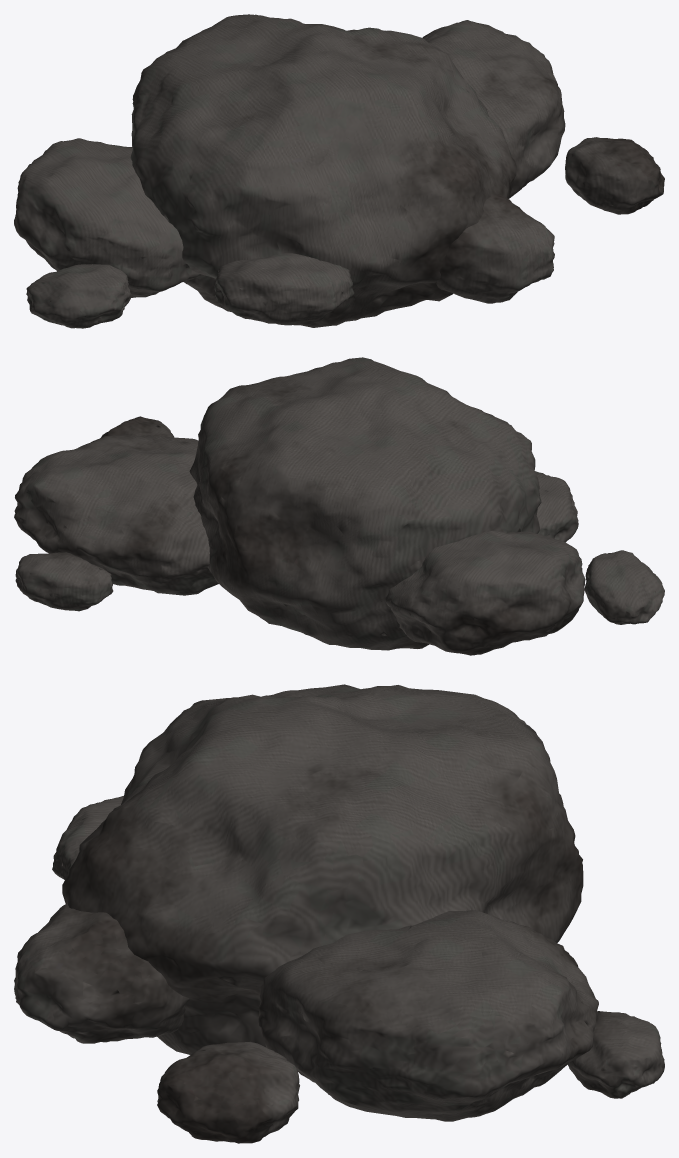
The model's file is rocks.glb.
3 views of the same model, one above another, from view 1: azimuth 30°, elevation 25°; view 2: azimuth 150°, elevation 25°; view 3: azimuth 270°, elevation 25° (orthographic). The views are drawn at different scales.
Parts seen in each view (by area): view 1: AR_rocks; view 2: AR_rocks; view 3: AR_rocks.
Boxes of the visible parts, x1,y1,x2,y2 form: AR_rocks: [14, 14, 664, 328]; AR_rocks: [14, 357, 664, 655]; AR_rocks: [14, 684, 664, 1143].
Bounding box in the file's own units: 2.94 × 1.12 × 2.11.
Materials: 1 (1 with a texture image).
